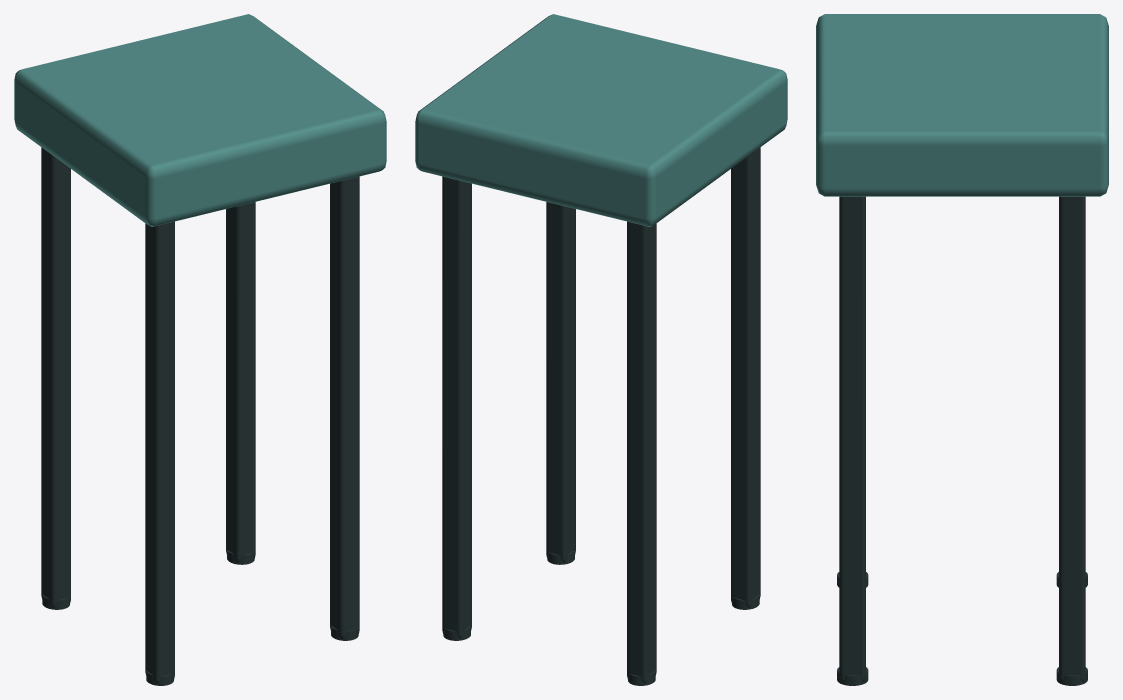
Rendered from wp-tabouret-haut.glb.
3 renders of one model, left to right at view 1: azimuth 30°, elevation 25°; view 2: azimuth 150°, elevation 25°; view 3: azimuth 270°, elevation 25°, orthographic. The views are drawn at different scales.
Visible parts, largest first — view 1: wp-tabouret-haut; view 2: wp-tabouret-haut; view 3: wp-tabouret-haut.
Boxes of the visible parts, box(x1,y1,x2,y2) form: wp-tabouret-haut: box(14, 14, 386, 685); wp-tabouret-haut: box(415, 14, 787, 685); wp-tabouret-haut: box(816, 14, 1108, 685).
Bounding box in the file's own units: 0.45 × 0.95 × 0.45.
